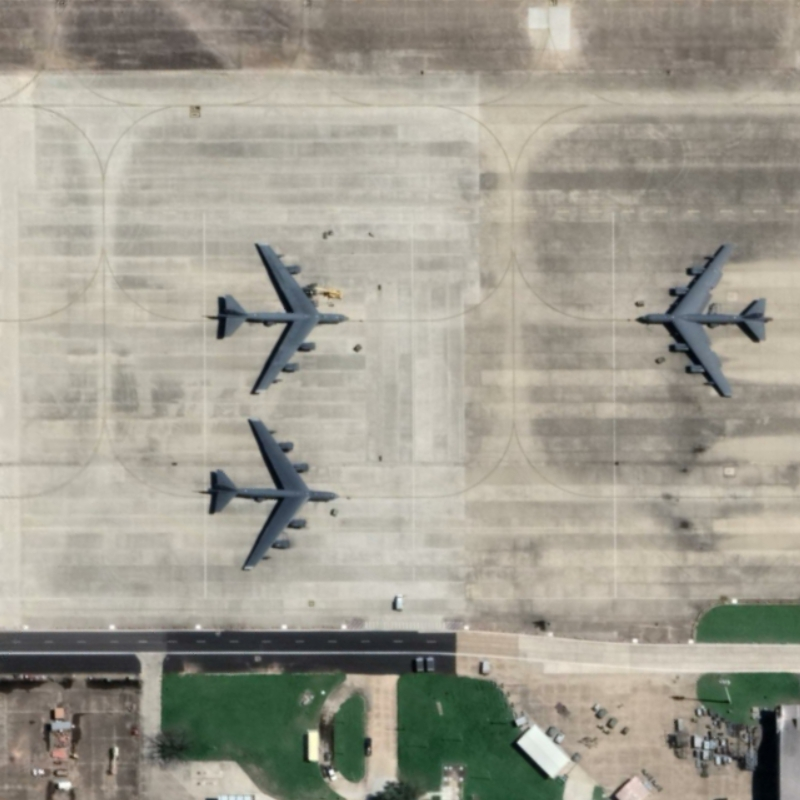A8: (625, 236, 774, 404), (207, 235, 352, 403), (197, 410, 342, 578)
